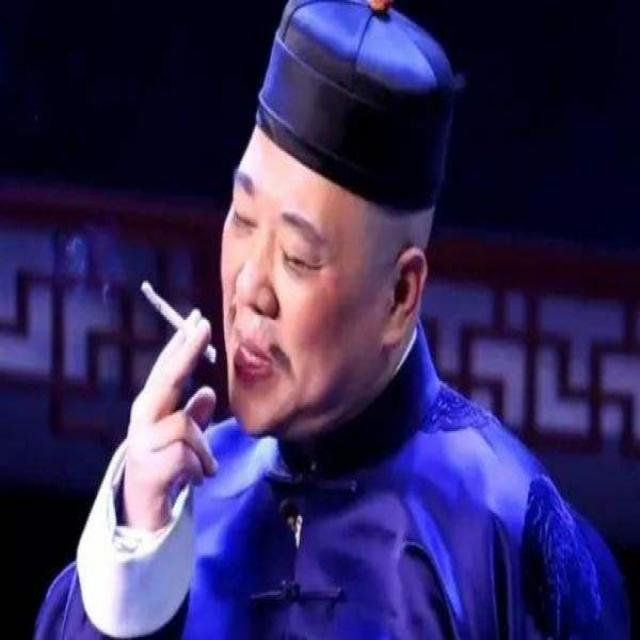cigarette: (138, 277, 183, 328)
